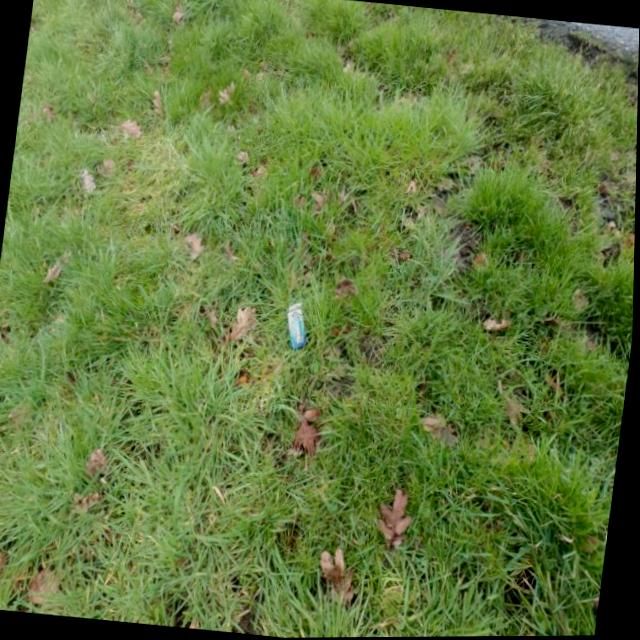Plastic: (283, 300, 311, 352)
